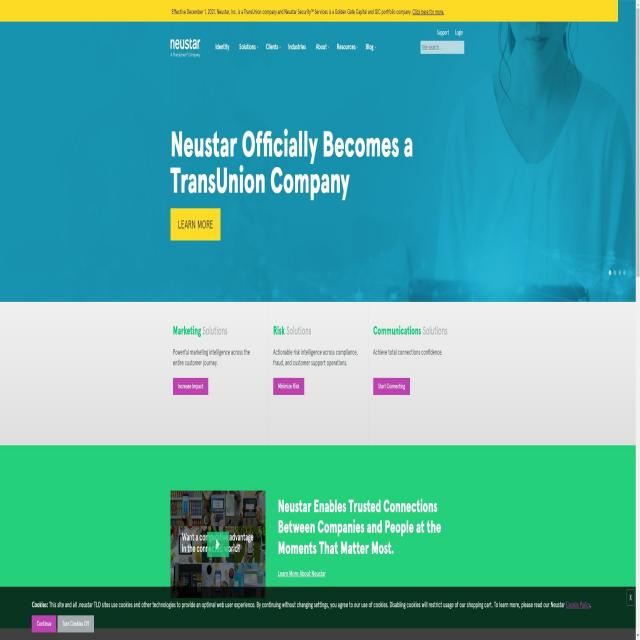button: (171, 209, 220, 241), (58, 614, 94, 633), (173, 378, 210, 396), (374, 378, 410, 394), (32, 614, 56, 633), (274, 379, 304, 394)
input: (420, 42, 464, 54)
